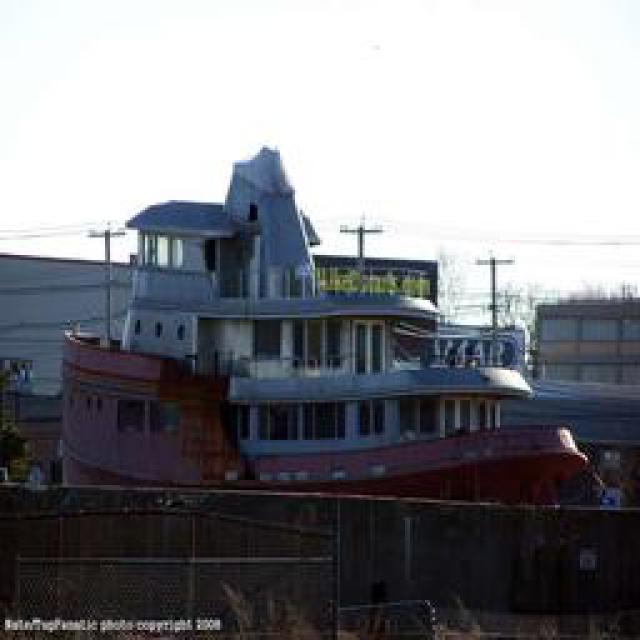Ship: (46, 164, 594, 499)
